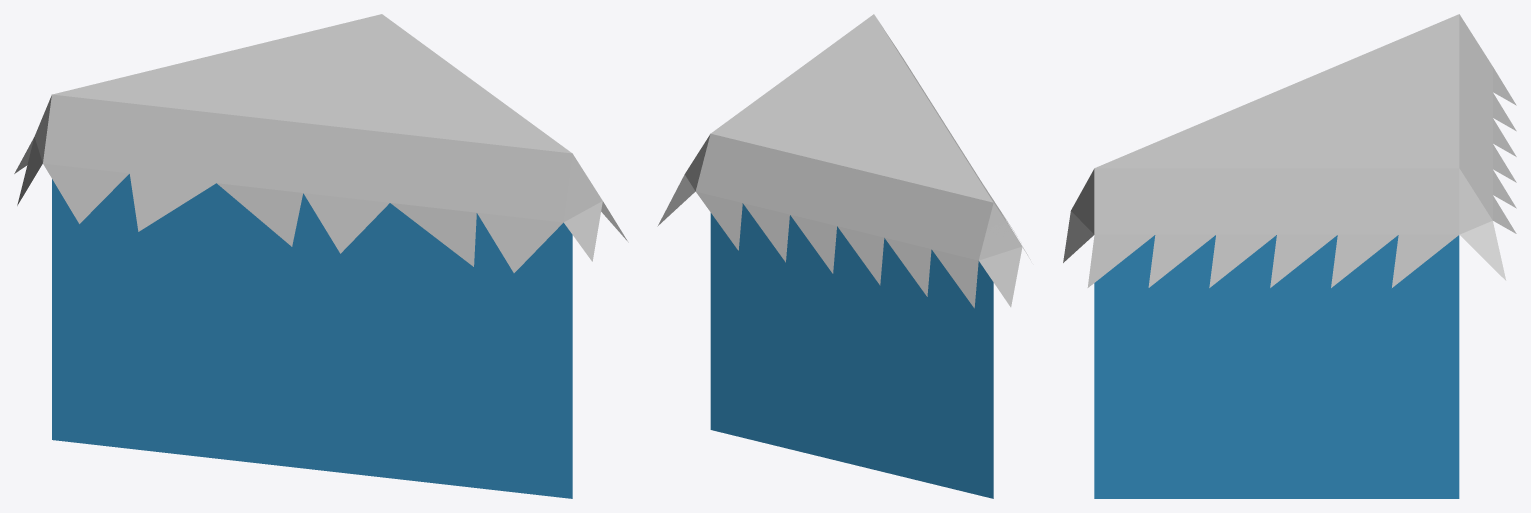
The model's file is Tile_Tri_Ice.fbx.
3 renders of one model, left to right at view 1: azimuth 30°, elevation 25°; view 2: azimuth 150°, elevation 25°; view 3: azimuth 270°, elevation 25°, orthographic. The views are drawn at different scales.
Parts seen in each view (by area): view 1: blockCornerLarge; view 2: blockCornerLarge; view 3: blockCornerLarge.
Part boxes in pixels (box(x1,y1,x2,y2)): blockCornerLarge: box(14, 14, 628, 498); blockCornerLarge: box(657, 14, 1030, 498); blockCornerLarge: box(1063, 14, 1516, 498).
Size of the model in its own units: 48.95 by 48.97 by 39.37.
